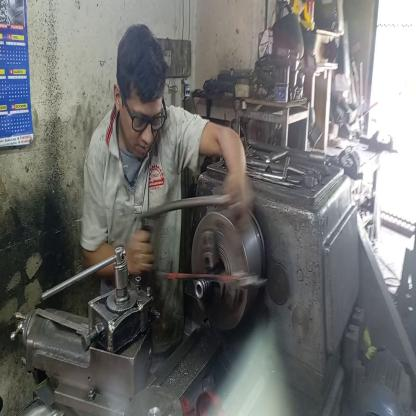lentes: (121, 88, 169, 140)
